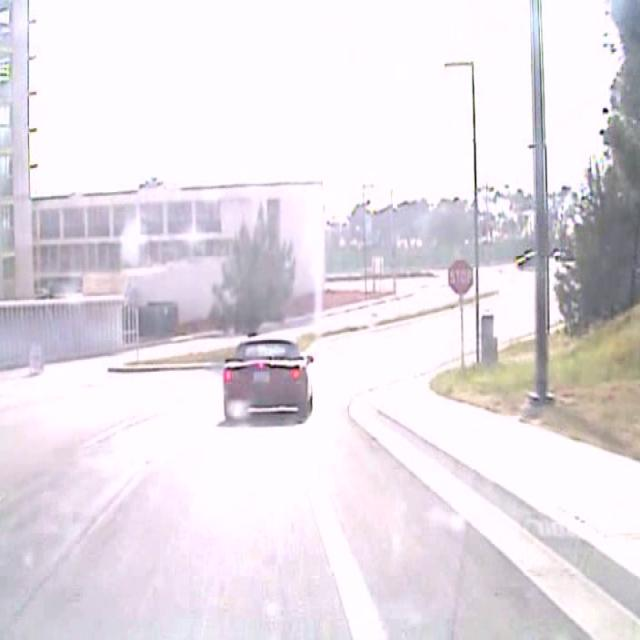stop_sign: (447, 257, 474, 295)
